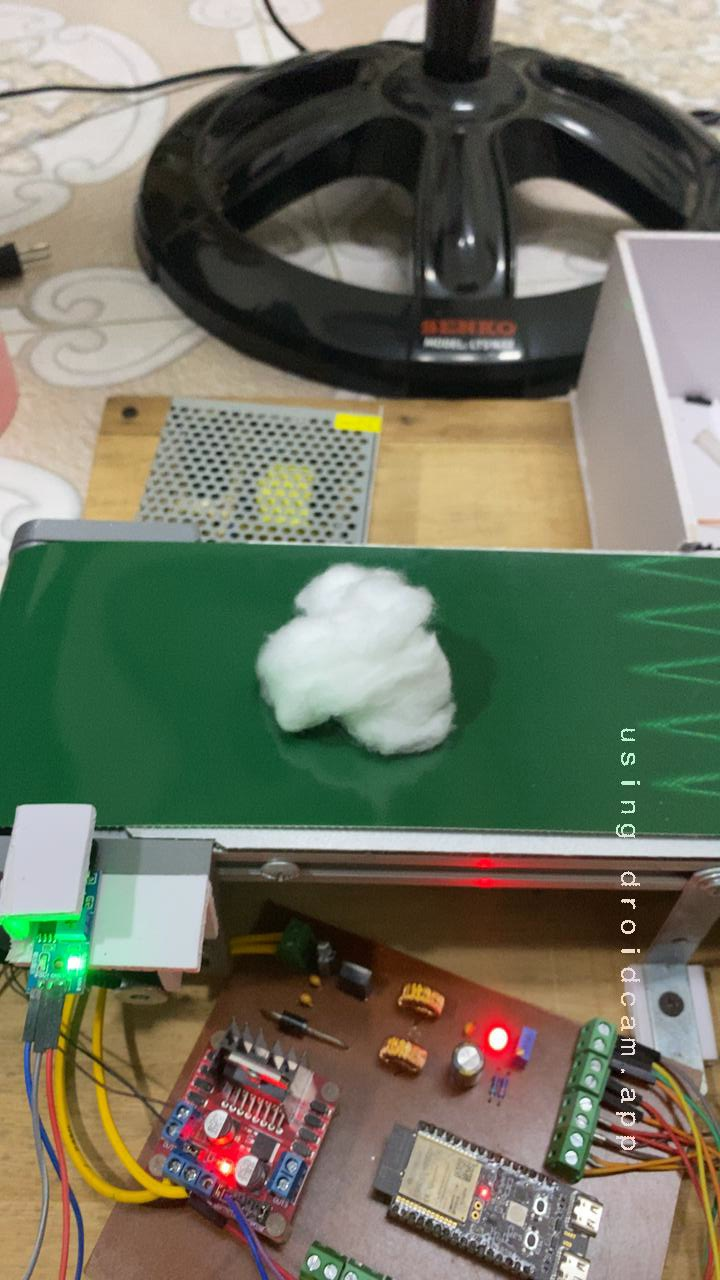cotton: (226, 554, 485, 778)
